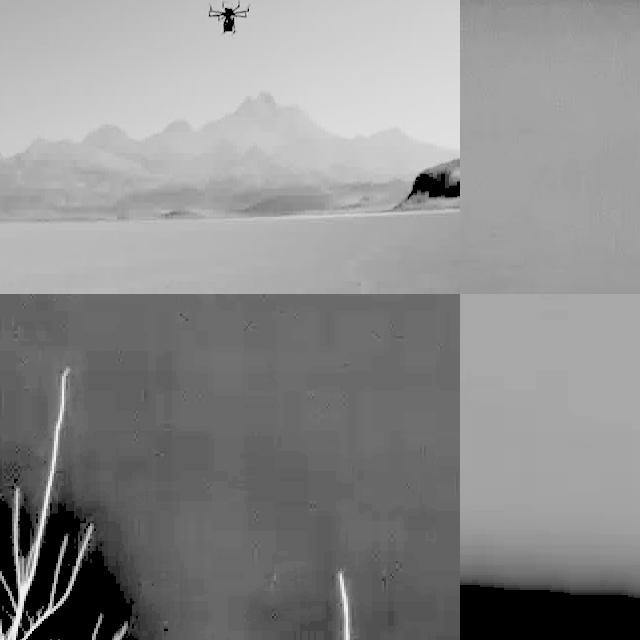0: (261, 575, 287, 602)
drone: (207, 0, 252, 41)
